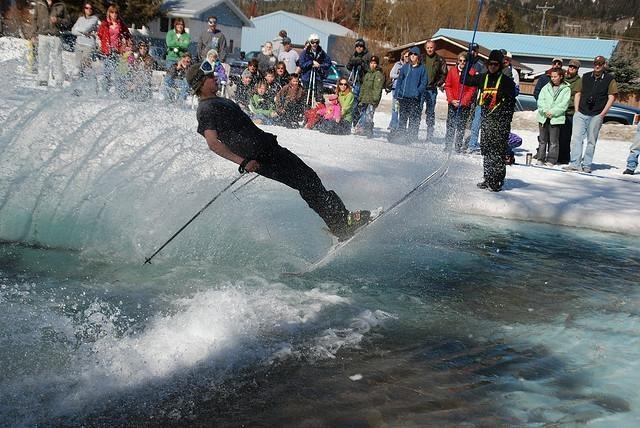car: (228, 51, 262, 83), (136, 36, 168, 66), (322, 63, 353, 93), (602, 103, 640, 126), (514, 94, 536, 112)
